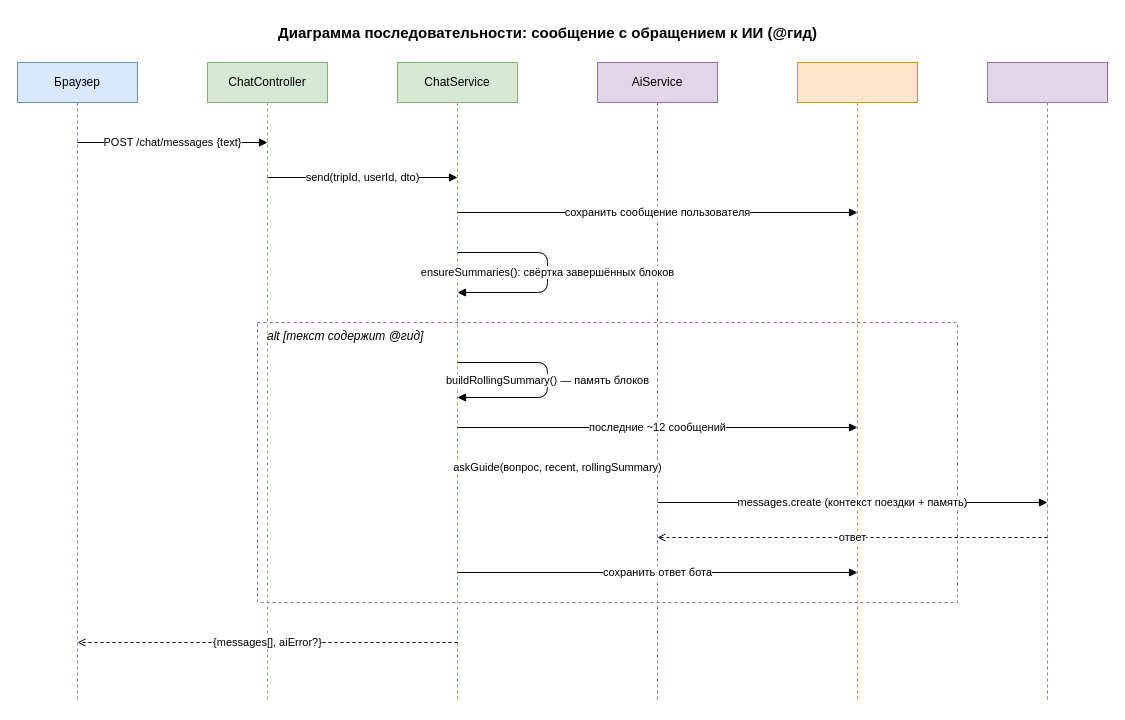
The diagram is 1125 pixels wide and 720 high, and some of its shapes have lost their labels. Each missing label, with the box of its shape:
Claude API: (986, 62, 1108, 702)
PostgreSQL: (796, 62, 918, 702)
